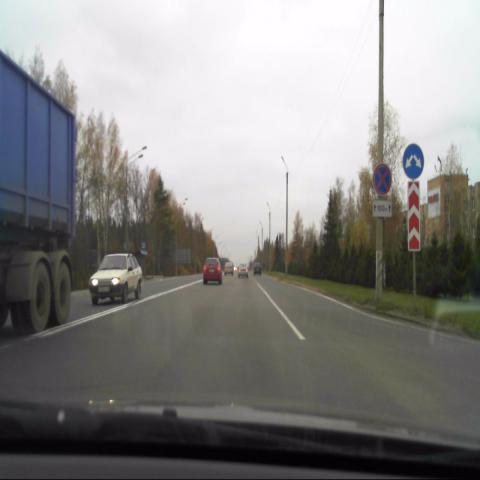3_27: (373, 162, 392, 196)
